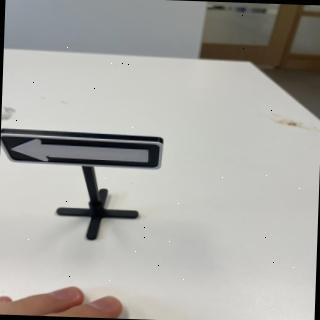sign_oneway_left: (1, 129, 172, 177)
